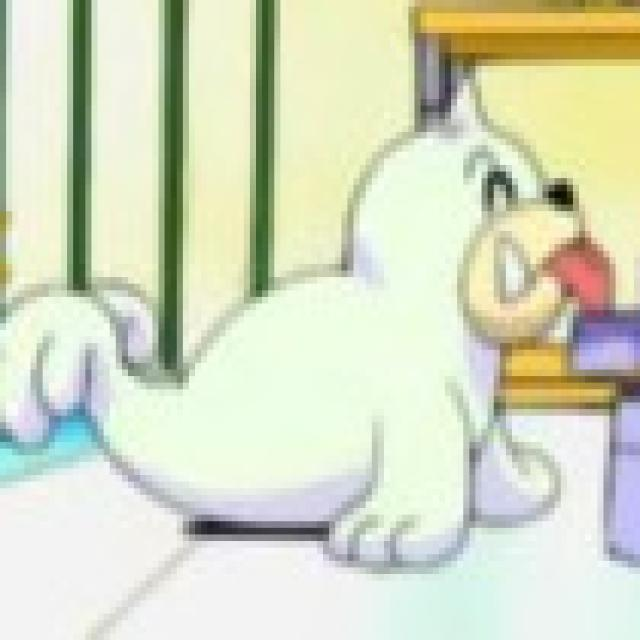Seel: (8, 78, 616, 574)
